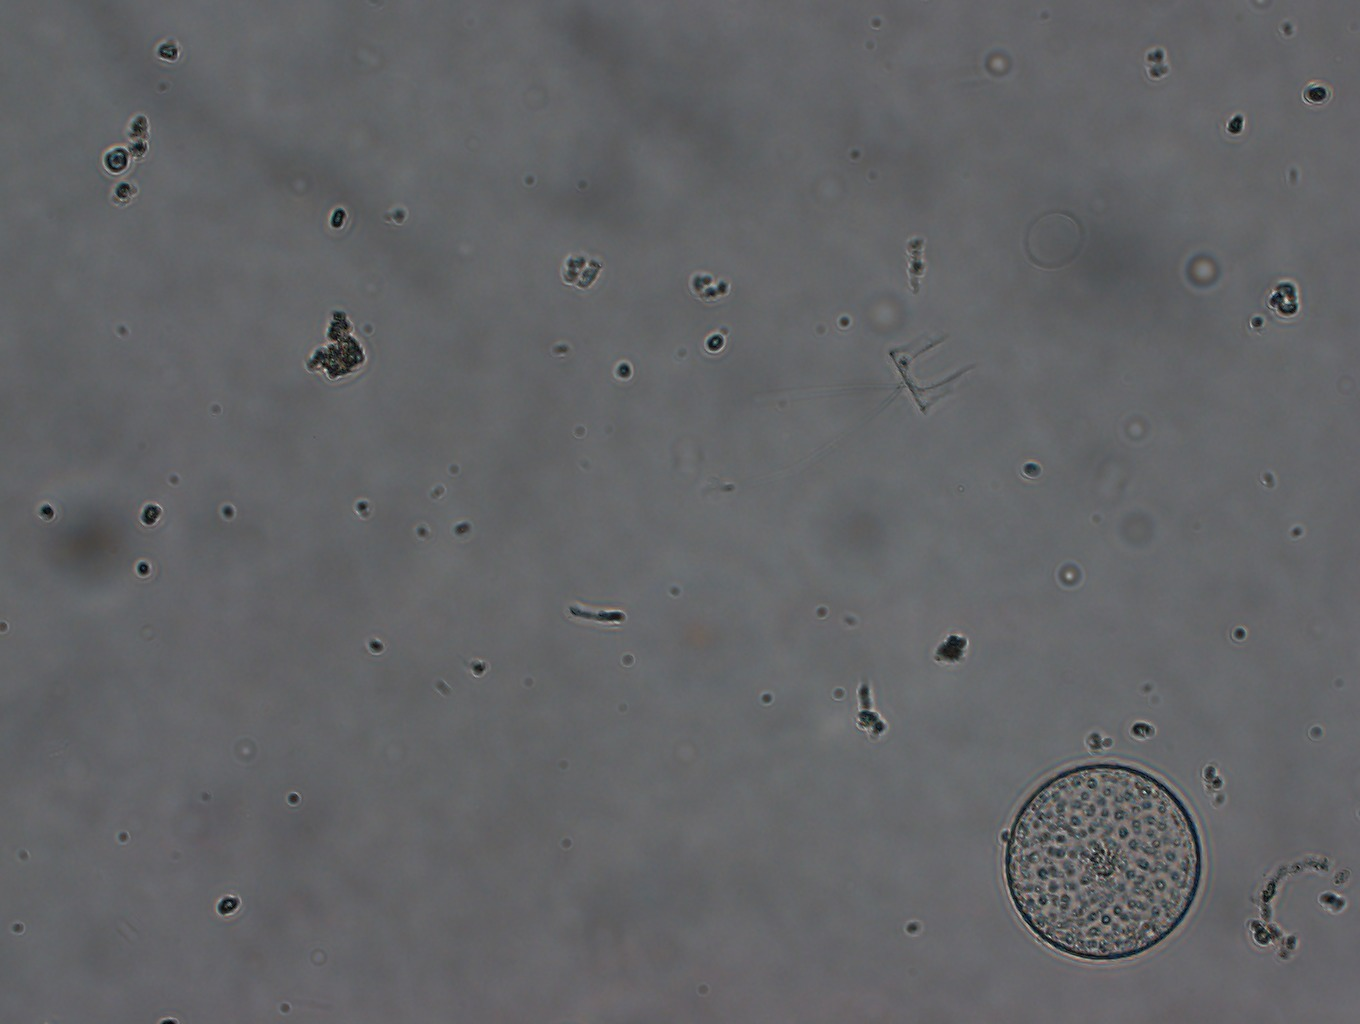coscinodiscus: (1000, 757, 1209, 970)
